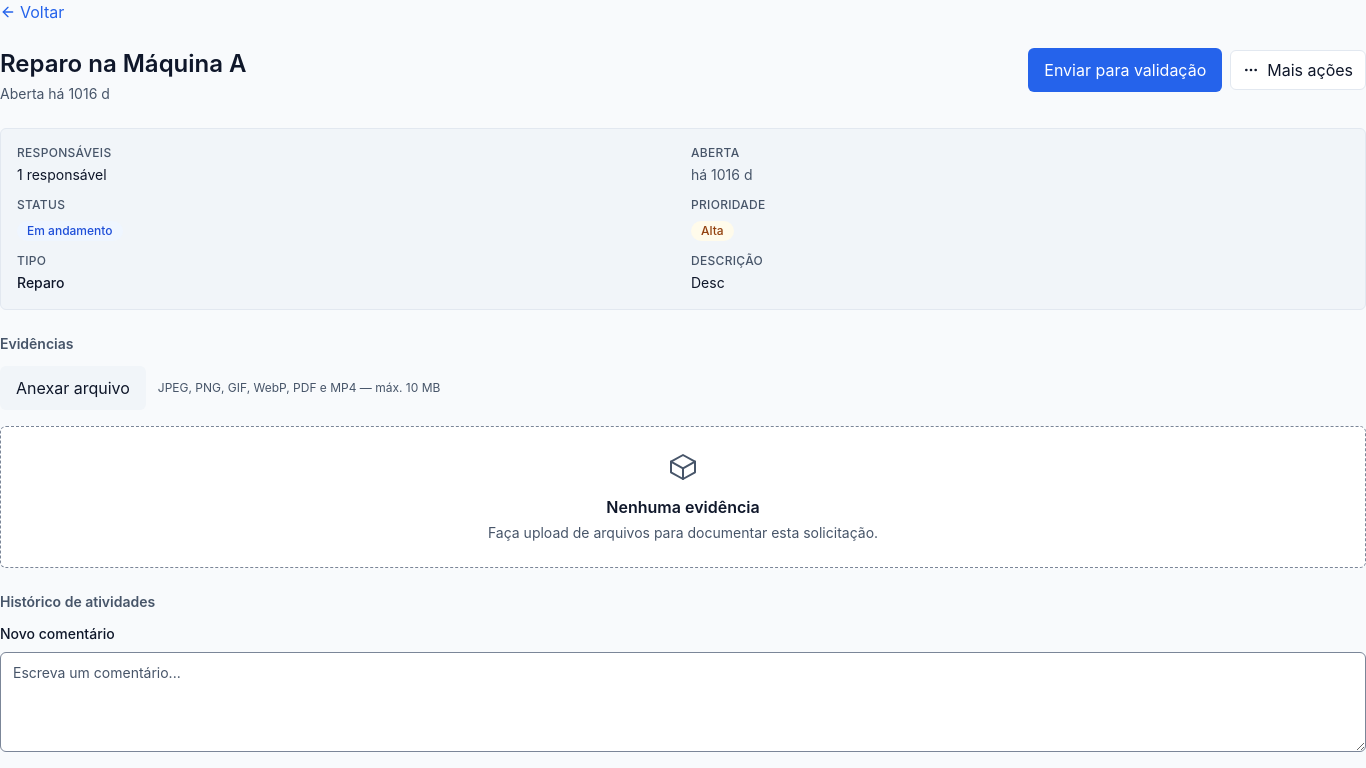
Test case: SolicitacaoDetalhePage › deve oferecer só quem ainda não é responsável quando o gestor abre Alterar responsáveis
Click the button "Mais ações" at {"x": 1298, "y": 70}, box [1230,50,1365,90]
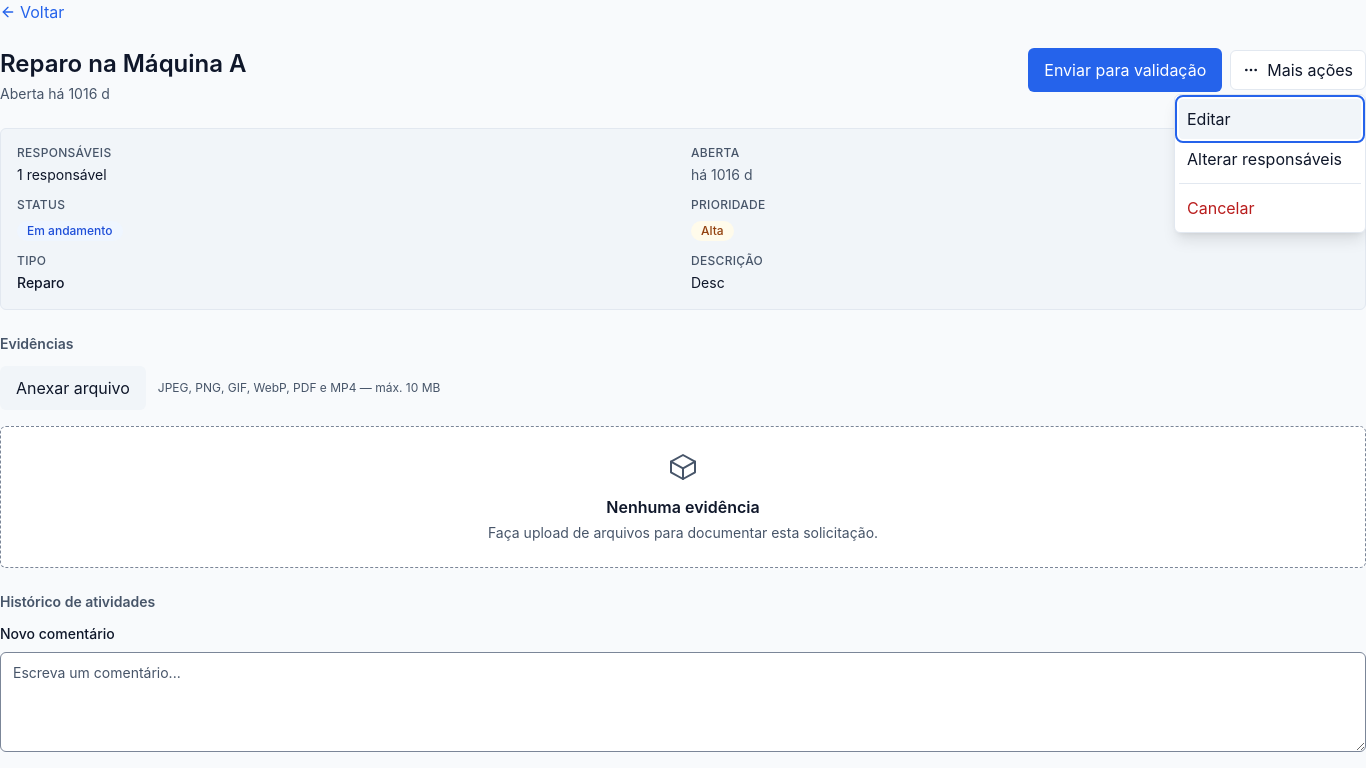
Click the menu item "Alterar responsáveis" at {"x": 1270, "y": 159}, box [1179,139,1361,179]
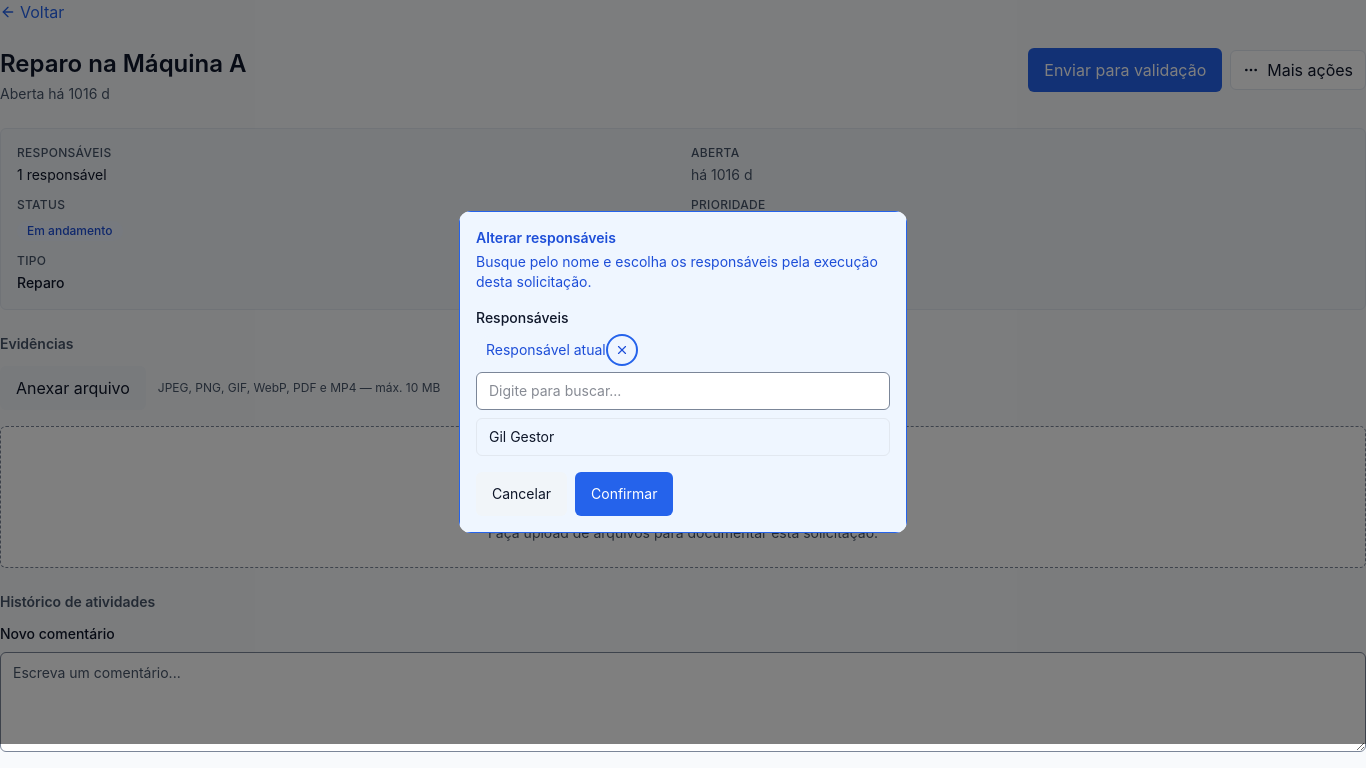
Expected: the button "Gil Gestor" is shown, [477,419,889,455]
Expected: the button named "Remover Responsável atual" is shown, [610,338,634,362]
